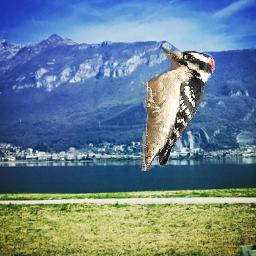Woodpecker: (141, 47, 216, 171)
